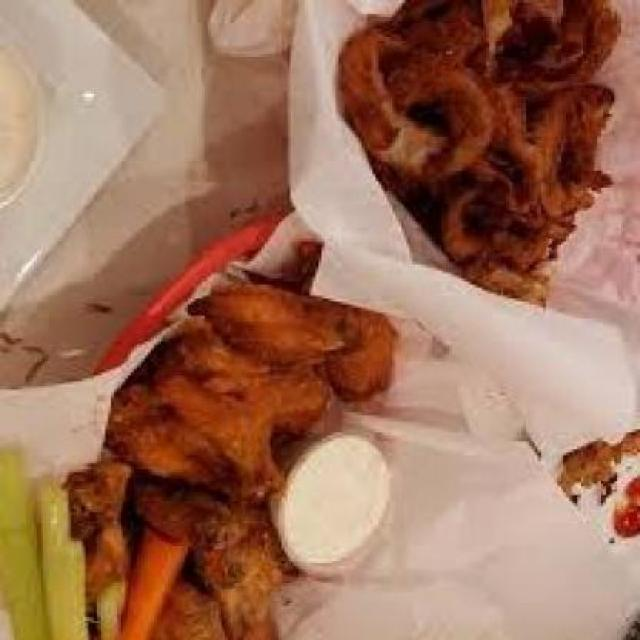chicken wings: (62, 219, 413, 638)
